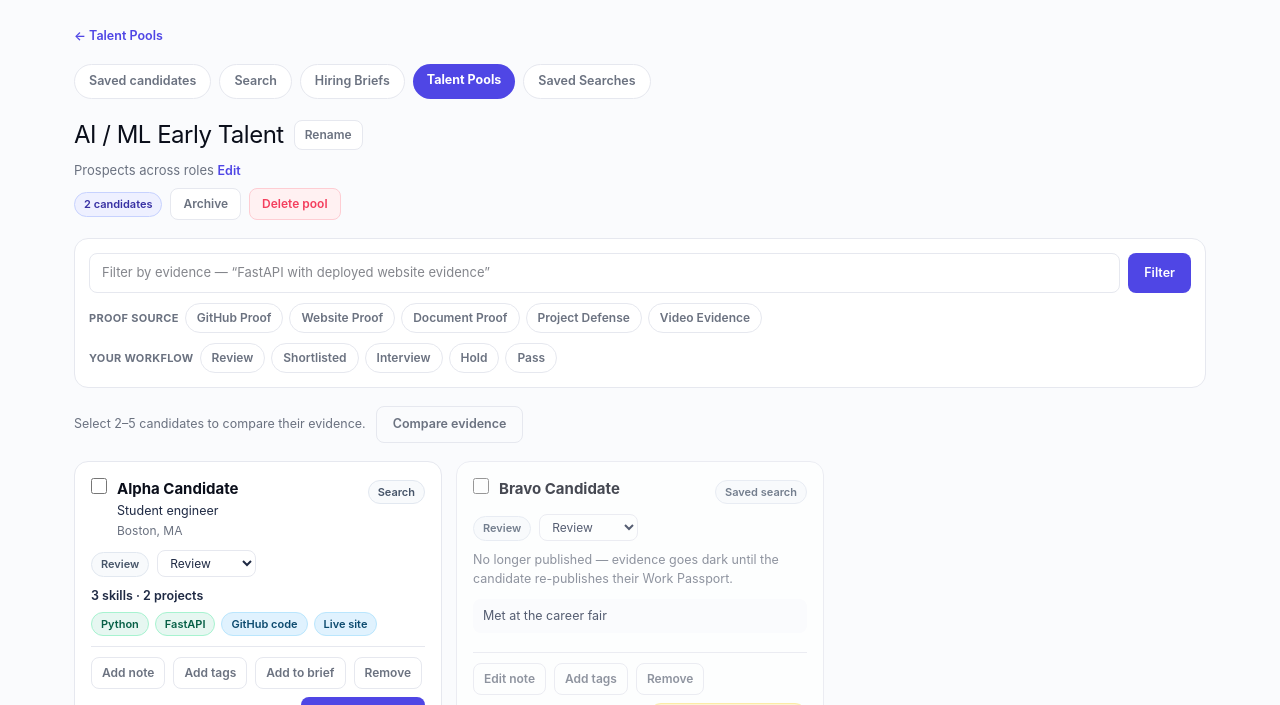
it: PoolDetailView › adds a pool candidate to a Hiring Brief through the picker
Expected: the heading "AI / ML Early Talent" is shown, [74,116,284,152]
Click the button with test id "add-to-brief" at (300, 673), box [255,657,346,689]
(page scrolled)
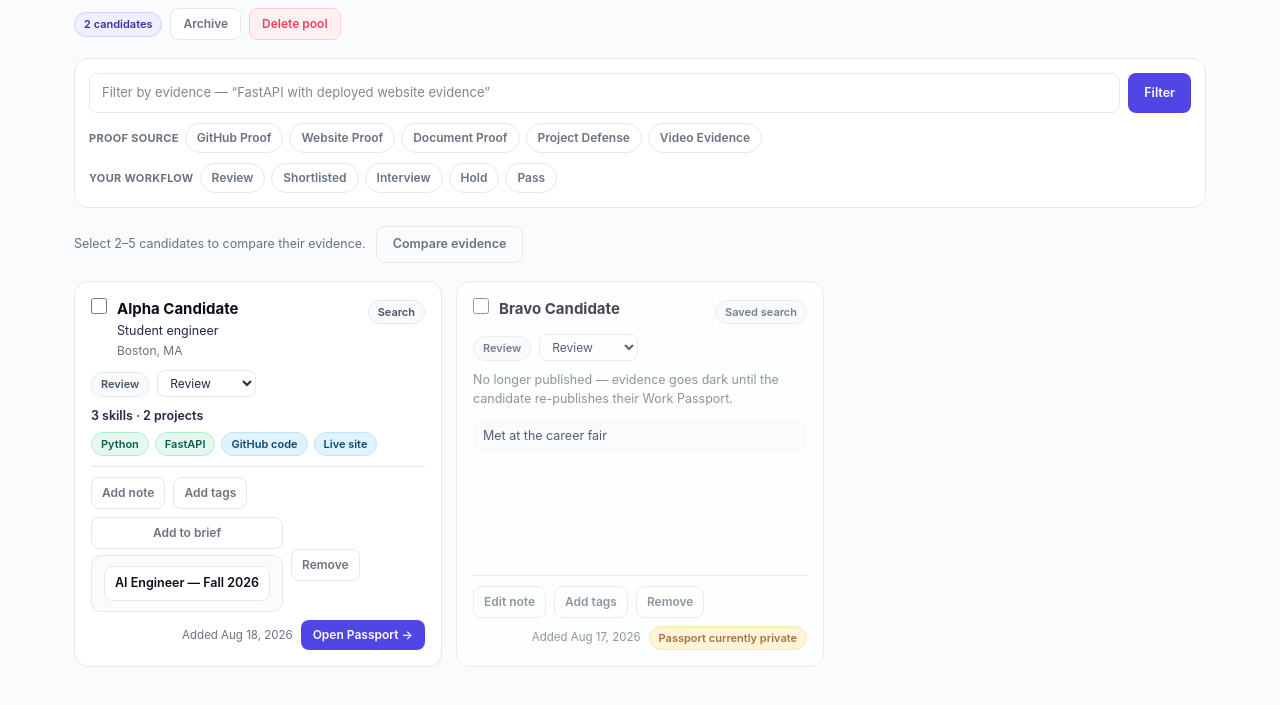
Expected: the button with test id "add-to-brief-option" reads "AI Engineer — Fall 2026"
Click the button with test id "add-to-brief-option" at (187, 584), box [104,566,270,601]
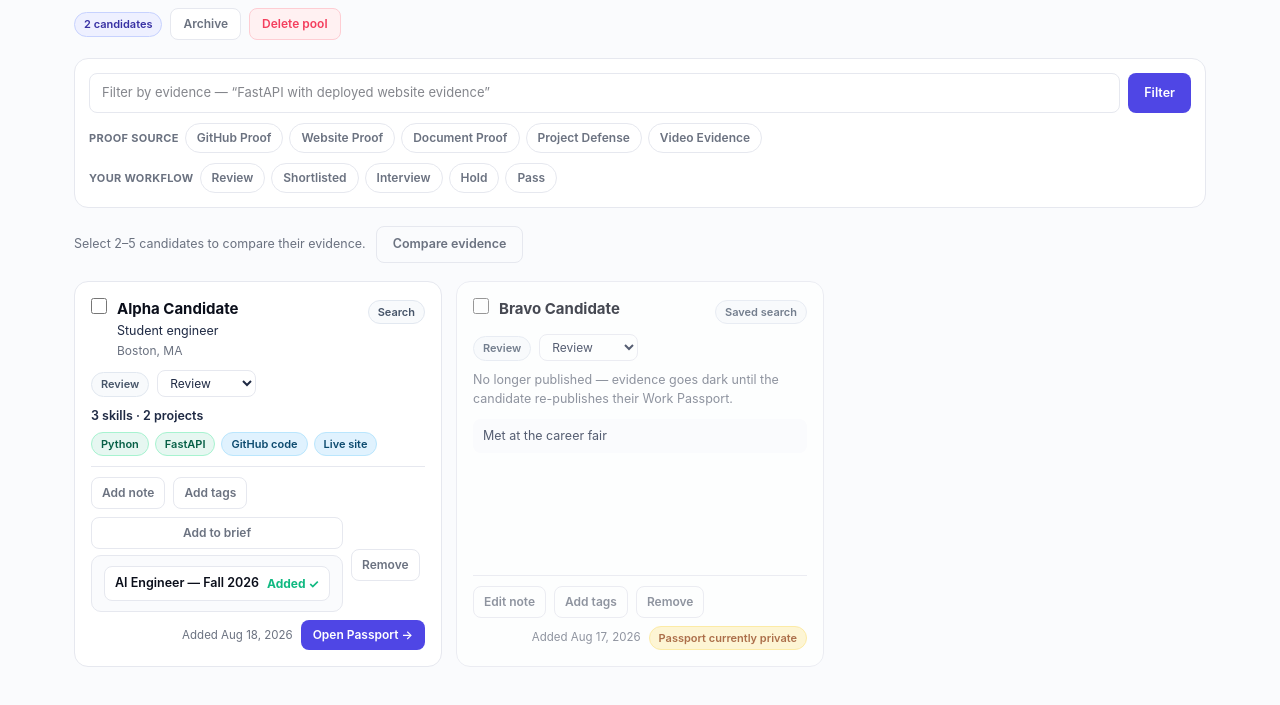
Expected: the text "Added ✓" is shown, [267,575,319,593]
